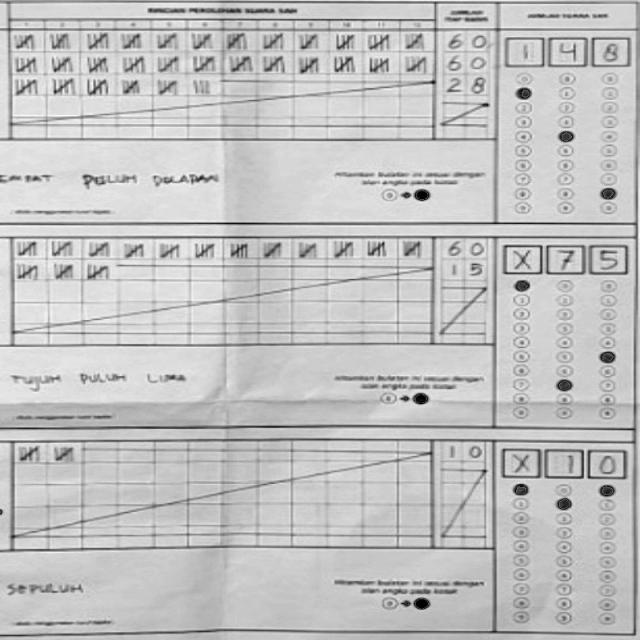Suara: (501, 29, 634, 72), (499, 236, 632, 279), (498, 440, 630, 483)
